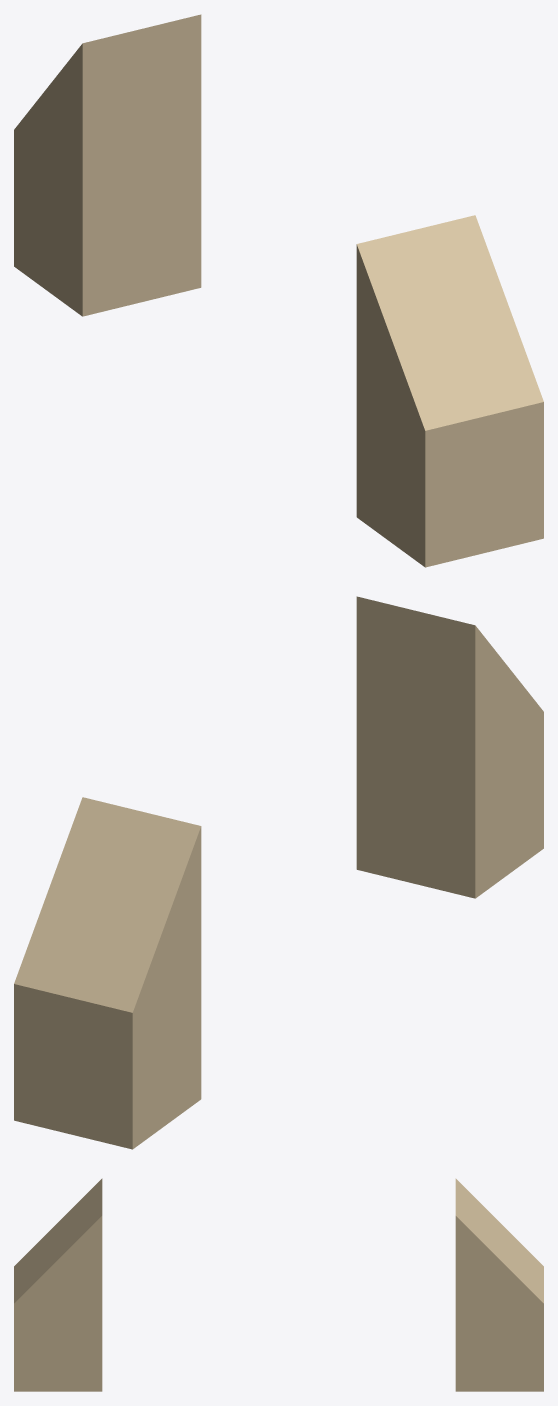
Rendered from wood_fence_gate_01.gltf.
The picture shows the model from 3 angles, top to bottom: view 1: azimuth 30°, elevation 25°; view 2: azimuth 150°, elevation 25°; view 3: azimuth 270°, elevation 25°; orthographic projection. The views are drawn at different scales.
Parts seen in each view (by area): view 1: Node4, Node11, Node7, Node12, Node3; view 2: Node10, Node2, Node1, Node3, Node12; view 3: Node6, Node8, Node2, Node11.
Part boxes in pixels (bbox=[...]): Node4: bbox=[82, 14, 201, 316]; Node11: bbox=[357, 215, 543, 430]; Node7: bbox=[425, 402, 543, 567]; Node12: bbox=[356, 244, 425, 567]; Node3: bbox=[14, 43, 82, 316]; Node10: bbox=[356, 596, 475, 898]; Node2: bbox=[14, 797, 200, 1012]; Node1: bbox=[14, 984, 132, 1149]; Node3: bbox=[132, 826, 201, 1149]; Node12: bbox=[475, 625, 543, 898]; Node6: bbox=[455, 1216, 543, 1391]; Node8: bbox=[14, 1216, 102, 1391]; Node2: bbox=[455, 1178, 543, 1303]; Node11: bbox=[14, 1178, 102, 1303].
Bounding box in the file's own units: 0.5 × 1.1 × 3.
